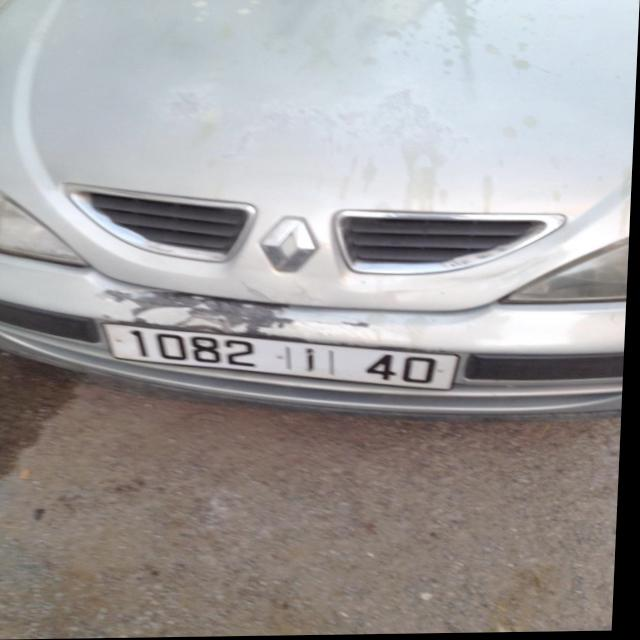License-Plate: (107, 324, 461, 391)
